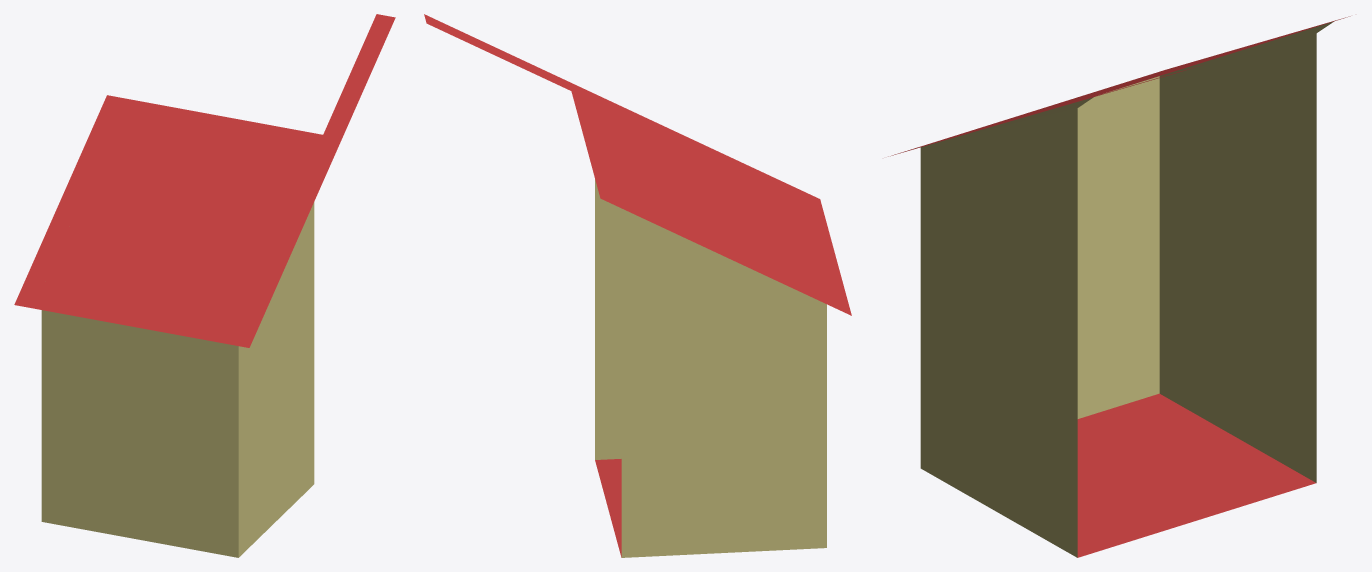
3 views of the same model, side by side, from view 1: azimuth 30°, elevation 25°; view 2: azimuth 150°, elevation 25°; view 3: azimuth 270°, elevation 25° (orthographic). The views are drawn at different scales.
Size of the model in its own units: 10.73 by 8.26 by 10.83.
